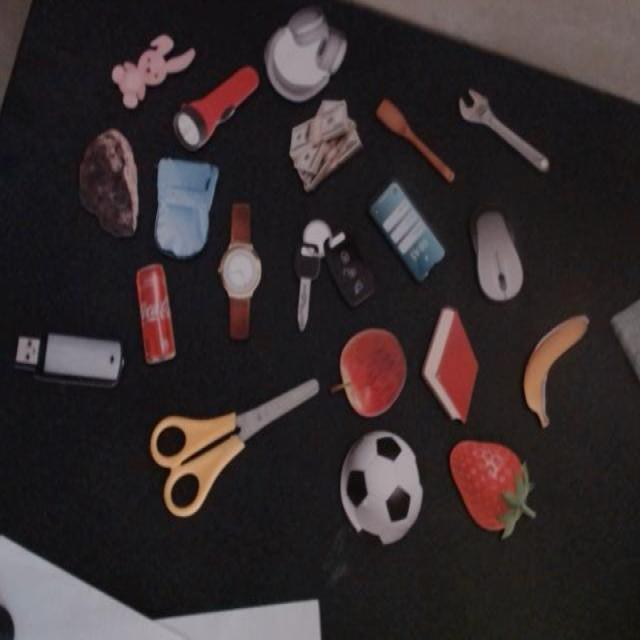Other Objects: (149, 376, 319, 517), (323, 410, 438, 563), (278, 203, 377, 329), (254, 0, 353, 121), (454, 82, 553, 189), (168, 46, 262, 158), (511, 294, 588, 427), (280, 87, 365, 194), (366, 177, 447, 285), (373, 94, 456, 194), (460, 204, 529, 312), (330, 327, 407, 417), (78, 127, 139, 237), (153, 158, 218, 261), (110, 32, 195, 109), (14, 330, 124, 388), (217, 200, 261, 340), (135, 263, 176, 364), (348, 428, 399, 508)
